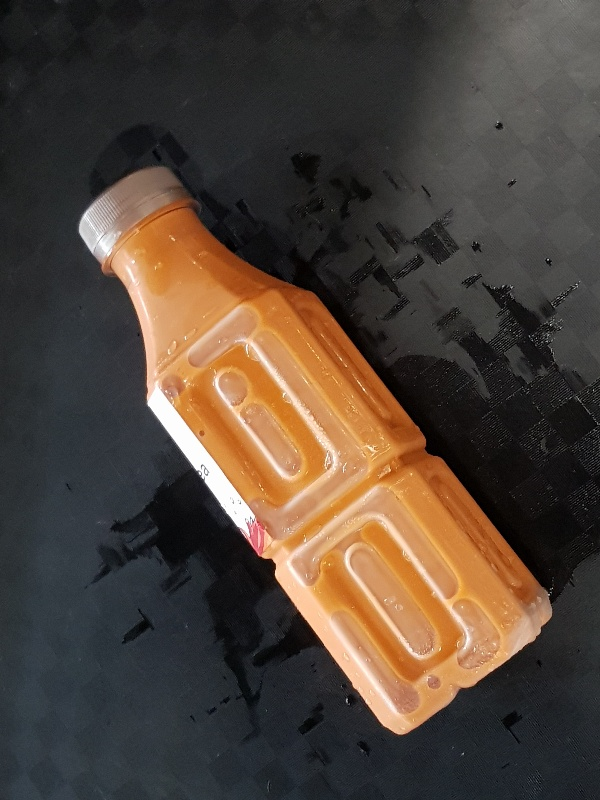Thai Milk Tea: (75, 164, 552, 736)
